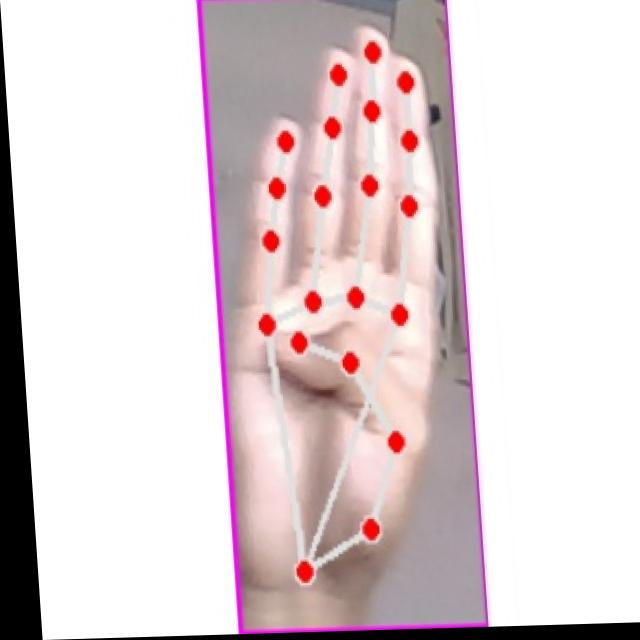B: (208, 19, 469, 602)
